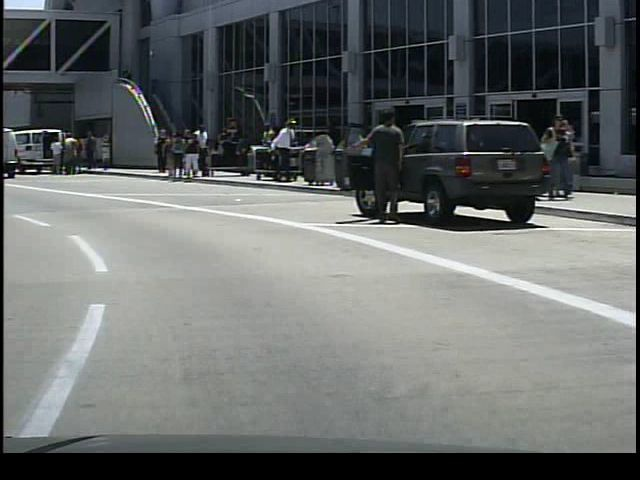person: (358, 111, 405, 231), (537, 108, 570, 199), (264, 114, 294, 188), (190, 123, 215, 180), (148, 125, 171, 176), (179, 130, 201, 180), (79, 128, 100, 175), (62, 130, 78, 178), (47, 136, 65, 177)
